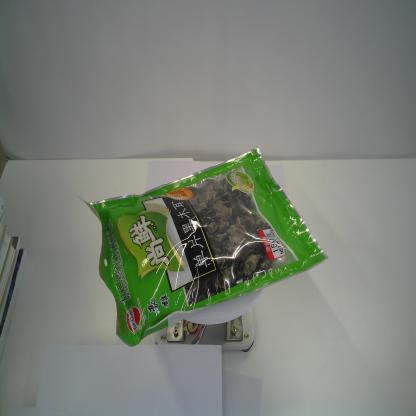Dried Food: (78, 145, 329, 348)
